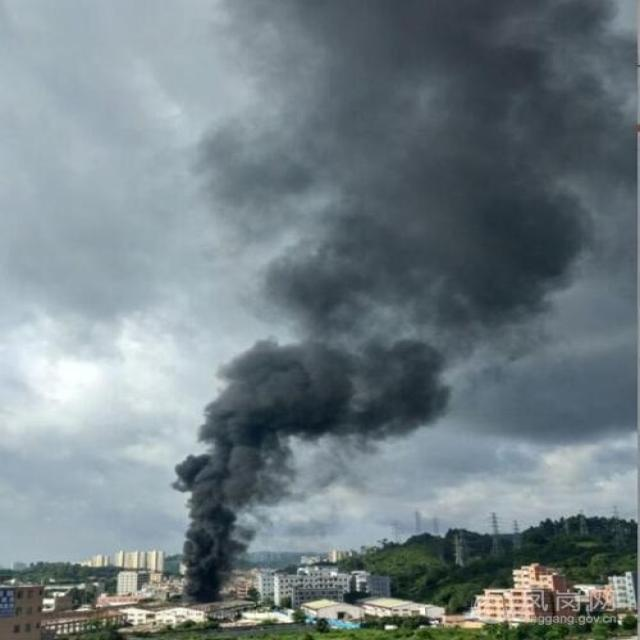Smoke: (141, 0, 640, 603)
